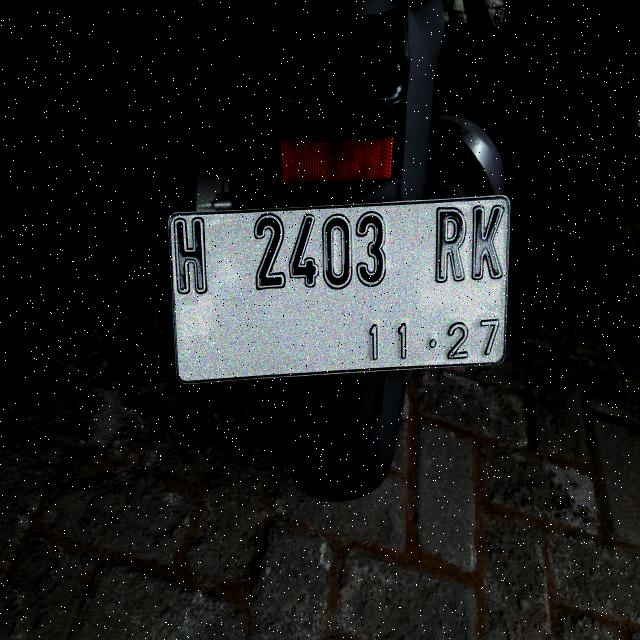plate: (170, 197, 509, 381)
